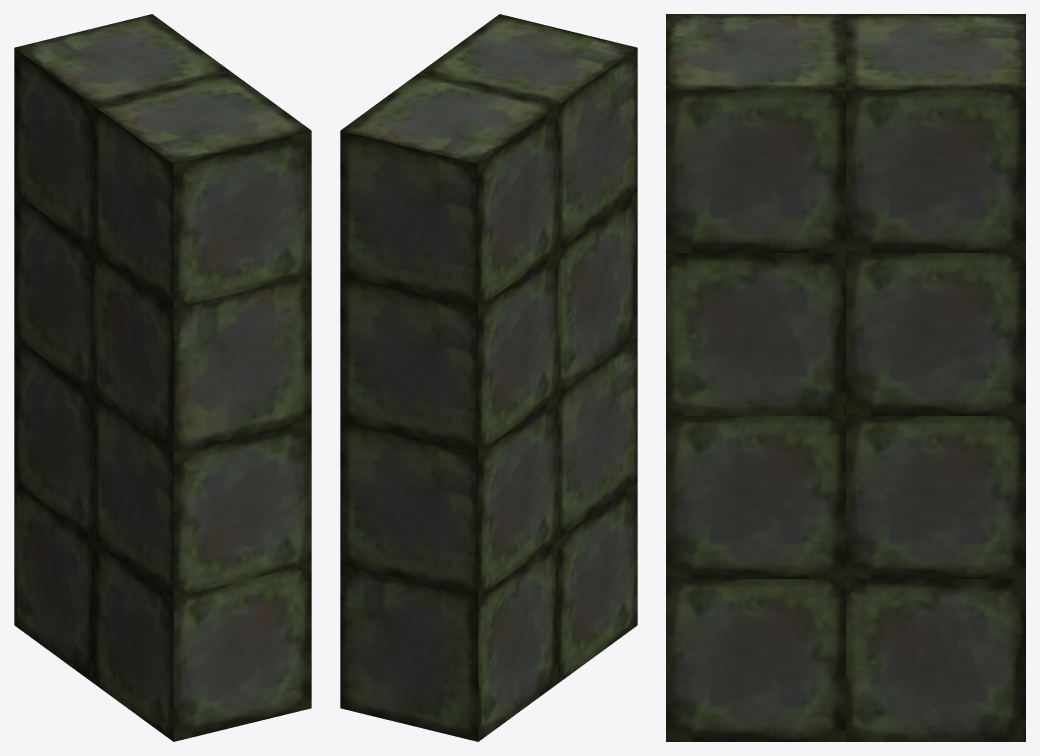
The model's file is giantdoor.fbx.
3 renders of one model, left to right at view 1: azimuth 30°, elevation 25°; view 2: azimuth 150°, elevation 25°; view 3: azimuth 270°, elevation 25°, orthographic. The views are drawn at different scales.
Parts seen in each view (by area): view 1: pCube204; view 2: pCube204; view 3: pCube204.
Boxes of the visible parts, bbox=[...] form: pCube204: bbox=[14, 14, 311, 741]; pCube204: bbox=[340, 14, 637, 741]; pCube204: bbox=[666, 14, 1025, 741].
Size of the model in its own units: 200 by 800 by 400.
